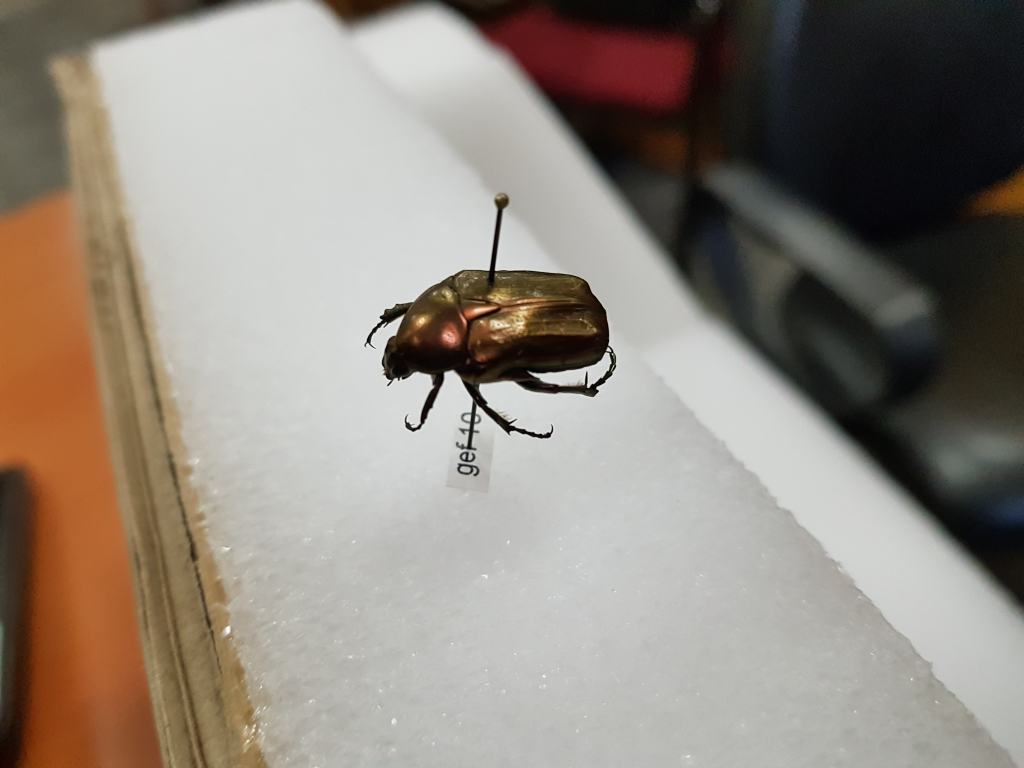Cetonia_aurata: (363, 265, 620, 441)
